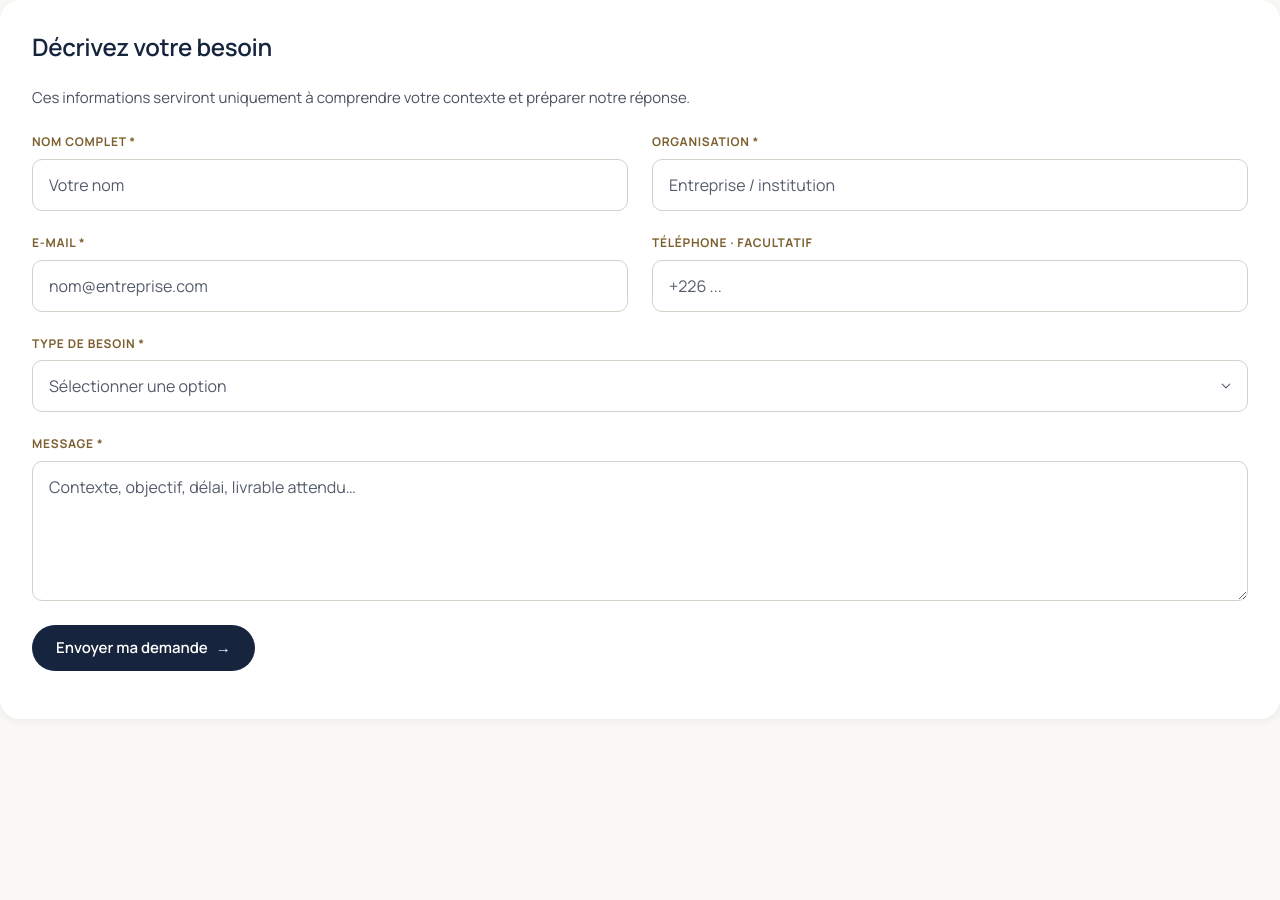
Test: ContactForm › relie chaque erreur à son champ et l’efface à la correction
The width and height of the screenshot is (1280, 900).
Click the button "Envoyer ma demande →" at (143, 648), box [32, 625, 255, 671]
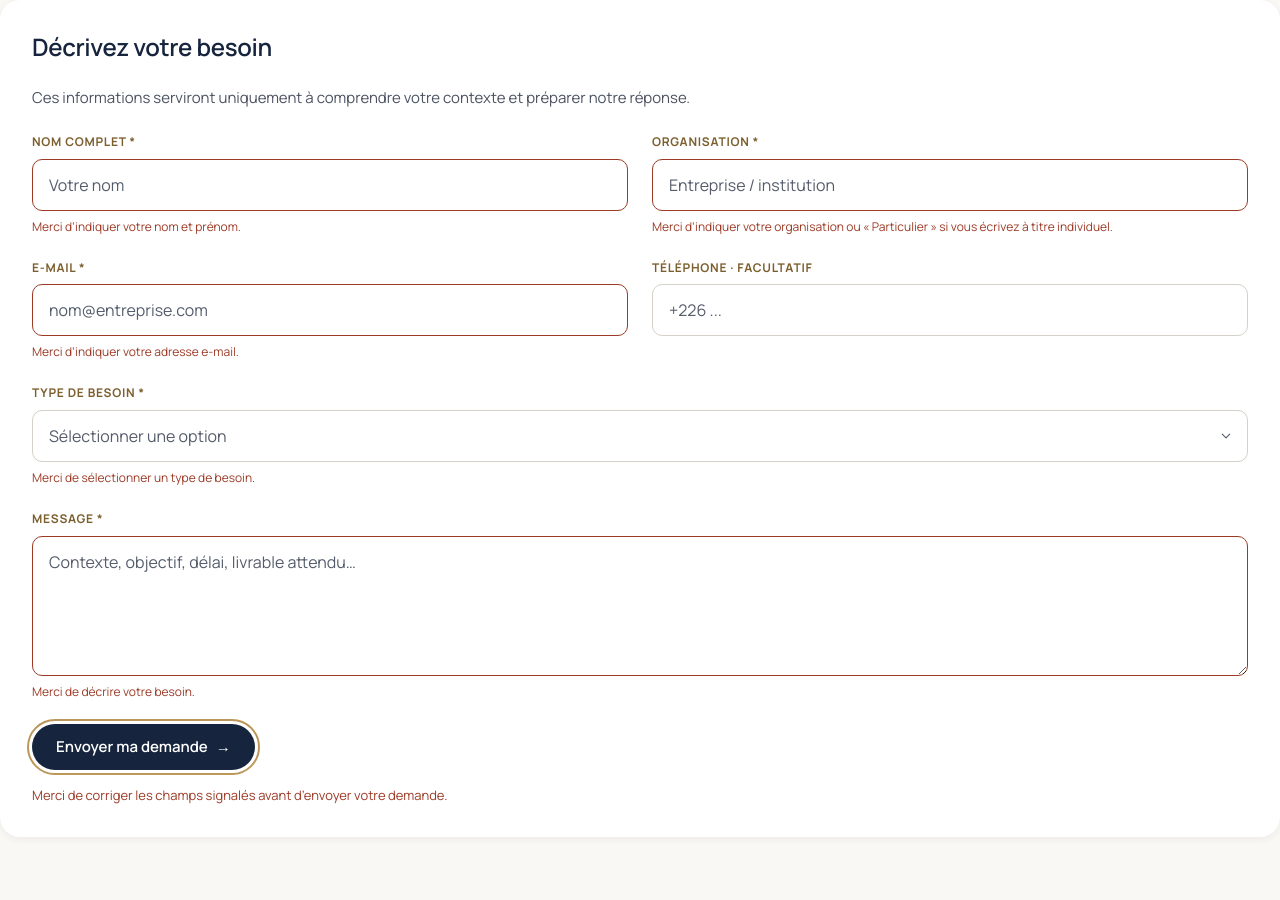
Expected: the text with id "contact-name-error" shows "Merci d’indiquer votre nom et prénom", [32, 218, 241, 235]
Type "Awa Ouédraogo" into the field labelled "Nom complet *" at (330, 185), box [32, 159, 628, 211]
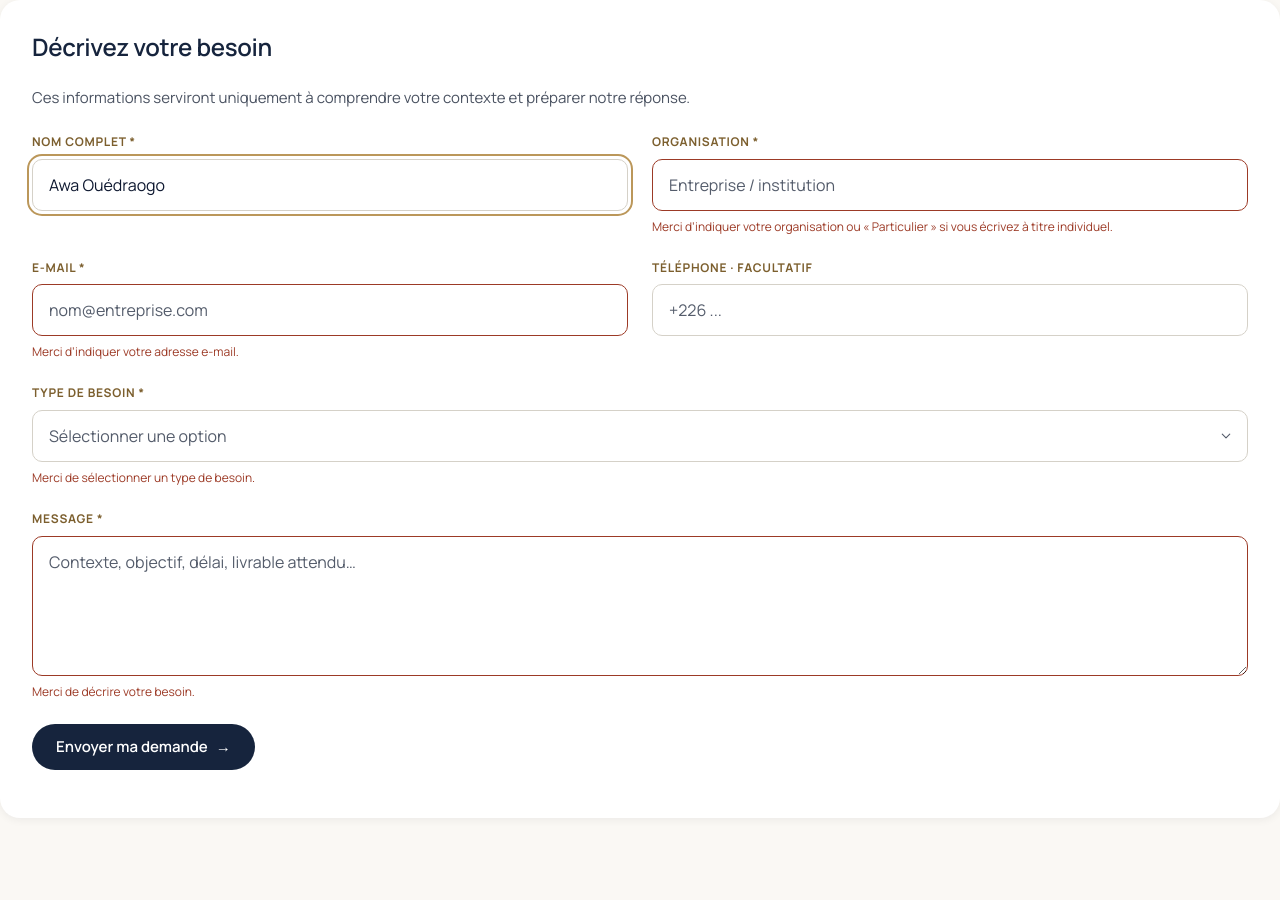
Expected: the text with id "contact-name-error" is gone
